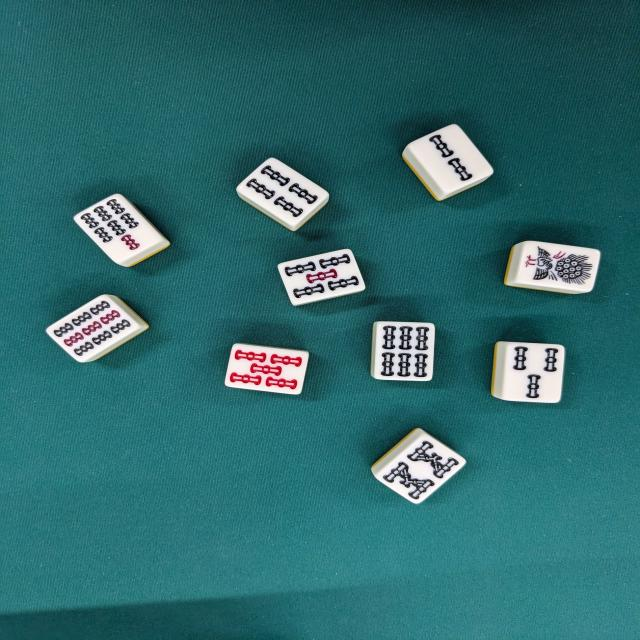1s: (503, 241, 602, 297)
2s: (401, 125, 494, 203)
3s: (491, 341, 567, 407)
4s: (235, 159, 330, 233)
5s: (275, 249, 367, 308)
6s: (370, 320, 437, 383)
7s: (73, 194, 171, 270)
8s: (369, 429, 467, 506)
9s: (43, 294, 151, 365)
D5s: (223, 342, 314, 398)
